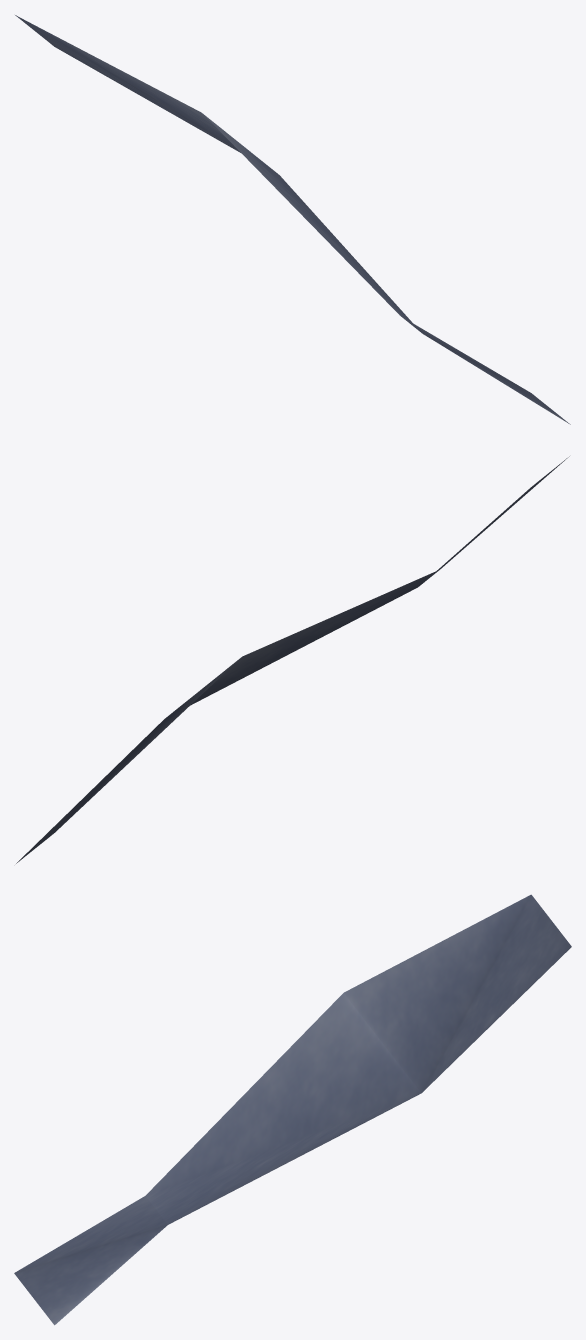
File: SM_Floor_Ledge_B_A.fbx
The picture shows the model from 3 angles, top to bottom: view 1: azimuth 30°, elevation 25°; view 2: azimuth 150°, elevation 25°; view 3: azimuth 330°, elevation 25°; orthographic projection.
Parts seen in each view (by area): view 1: pCube275; view 2: pCube275; view 3: pCube275.
Boxes of the visible parts, bbox=[...] form: pCube275: bbox=[15, 15, 570, 424]; pCube275: bbox=[16, 456, 569, 863]; pCube275: bbox=[14, 894, 571, 1325].
Size of the model in its own units: 0.087 by 0.087 by 1.
